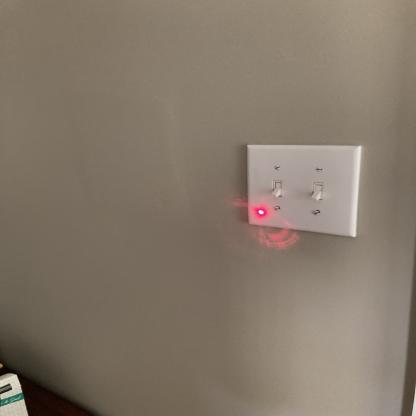target: (252, 205, 270, 221)
